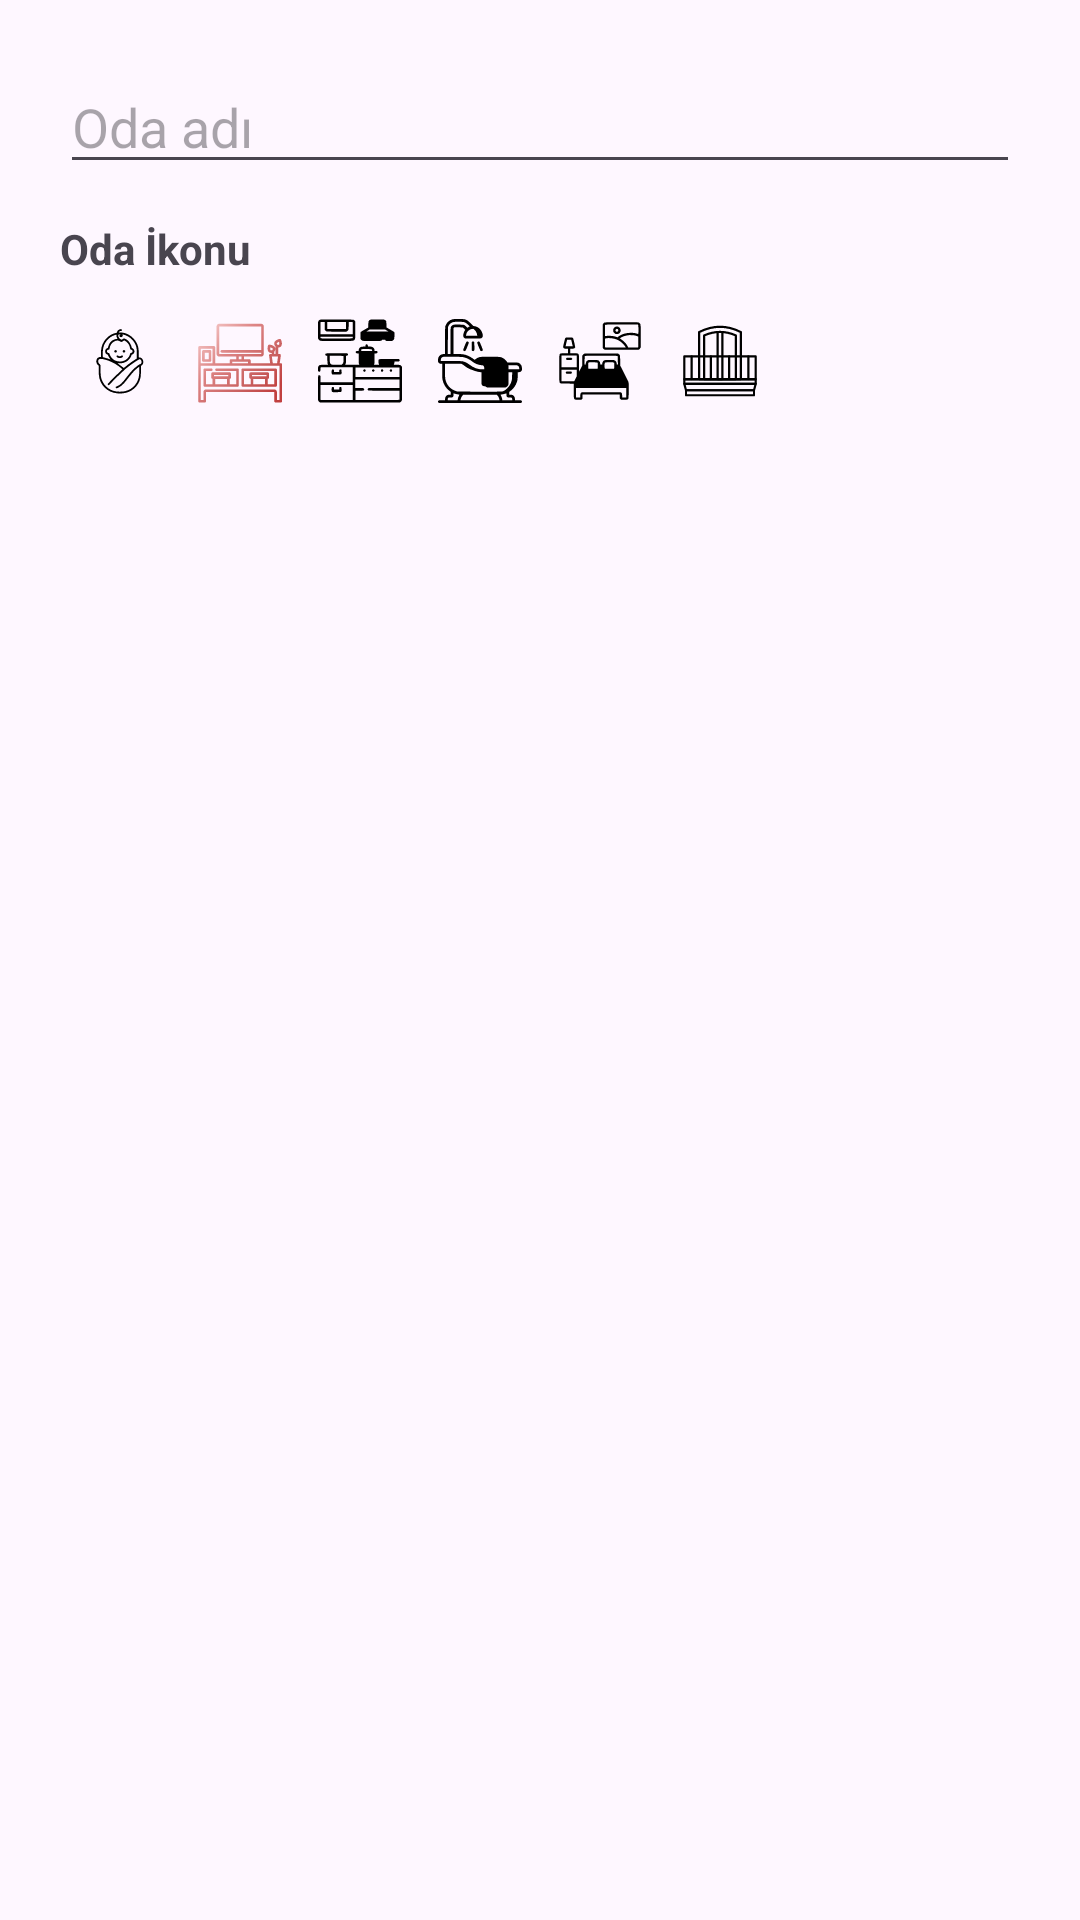

Screen size 1080px x 1920px. Icon name, then its center in pixels as [x,y]:
baby: [120,361]
balcony: [720,361]
bath: [480,361]
bedroom: [600,361]
kitchen: [360,361]
television: [240,363]
